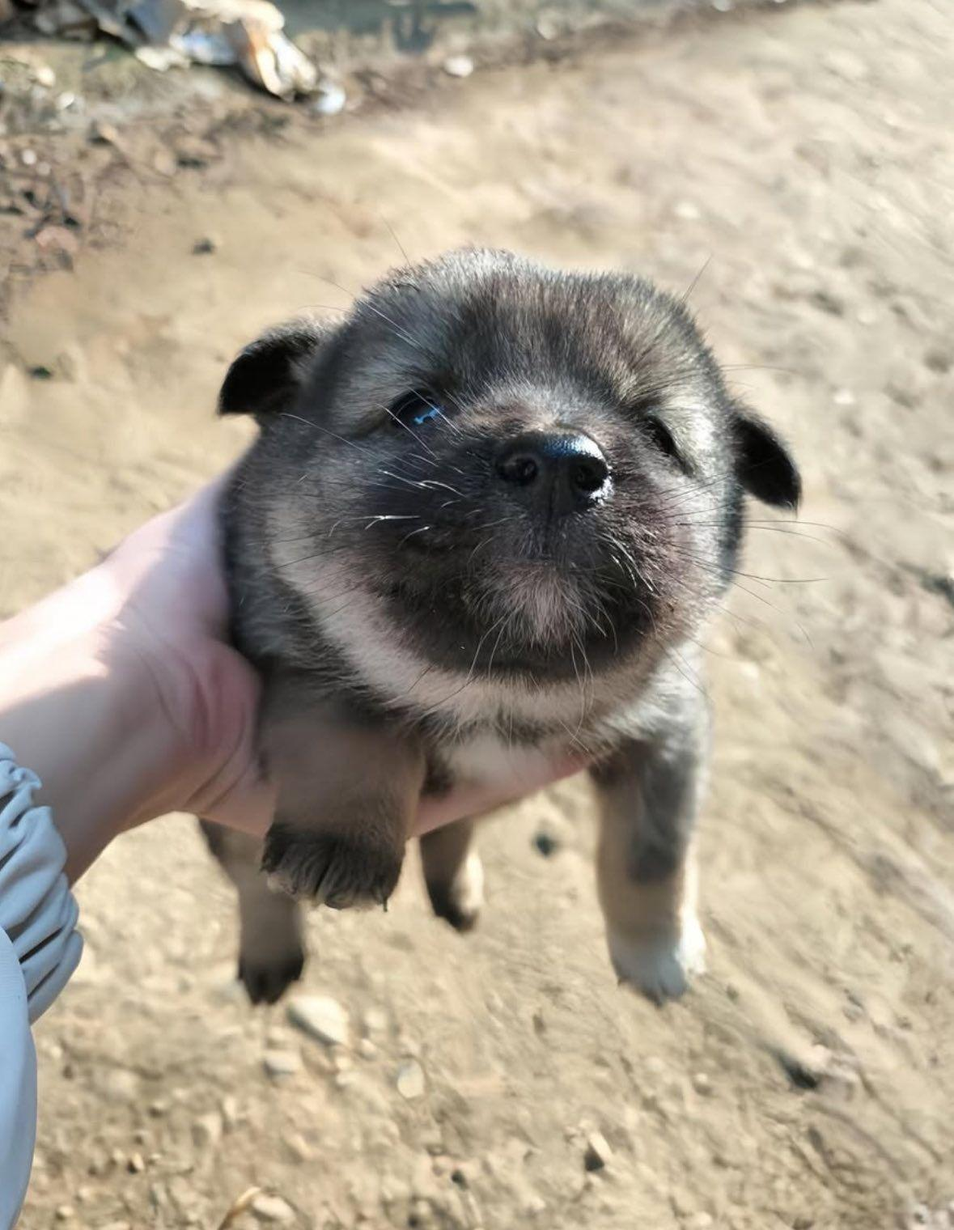puppy-dog: (203, 242, 806, 1015)
